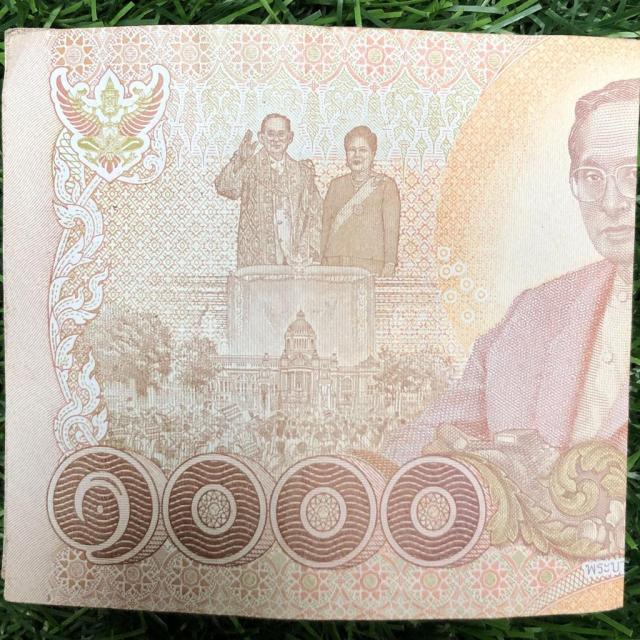THAI1000: (0, 24, 639, 624)
